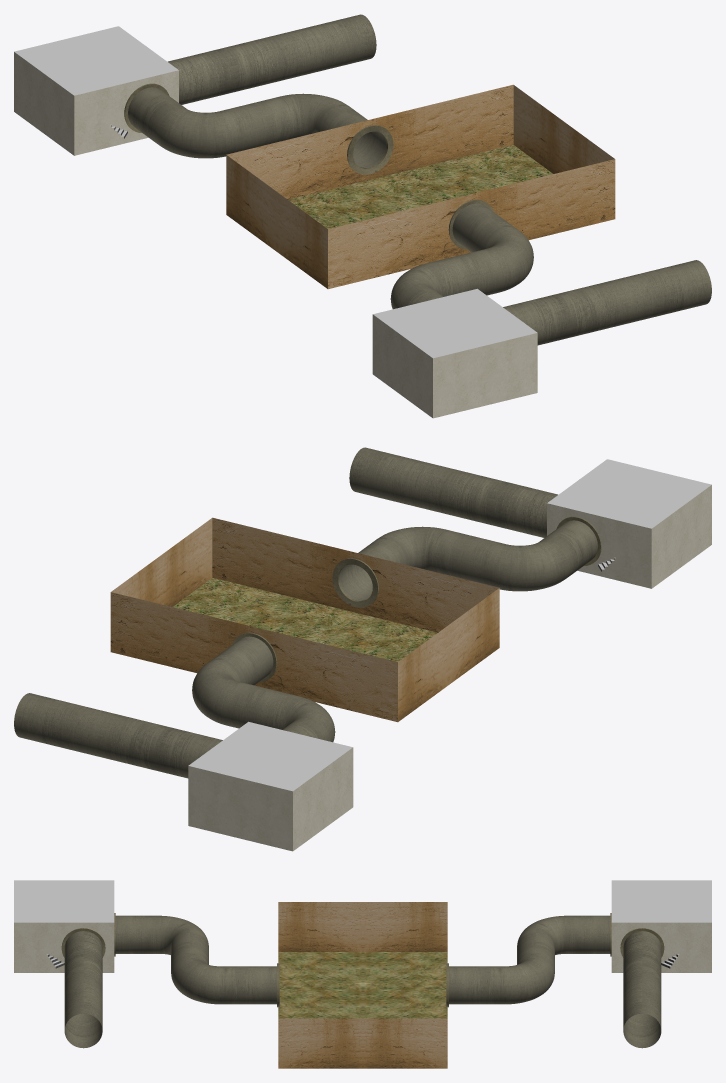
Rendered from Tunel.obj.
3 renders of one model, top to bottom at view 1: azimuth 30°, elevation 25°; view 2: azimuth 150°, elevation 25°; view 3: azimuth 270°, elevation 25°, orthographic. The views are drawn at different scales.
Parts seen in each view (by area): view 1: Tunel; view 2: Tunel; view 3: Tunel.
Boxes of the visible parts, box(x1,y1,x2,y2) form: Tunel: box(14, 14, 711, 418); Tunel: box(14, 447, 711, 851); Tunel: box(14, 880, 711, 1068).
Size of the model in its own units: 17.8 by 3 by 37.9.
Materials: 8 (6 with a texture image).
